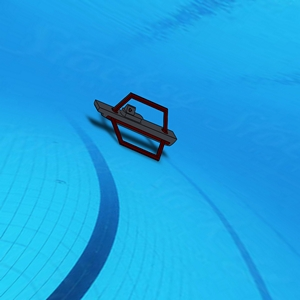submarine: (91, 92, 176, 161)
